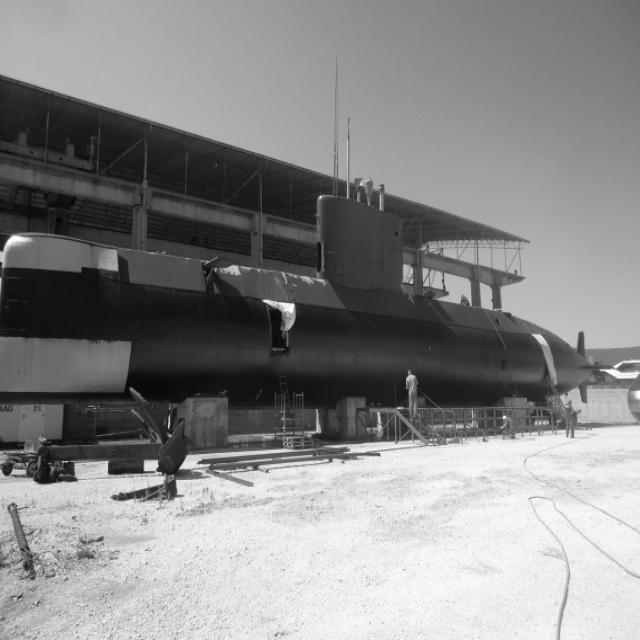submarine: (1, 116, 602, 404)
